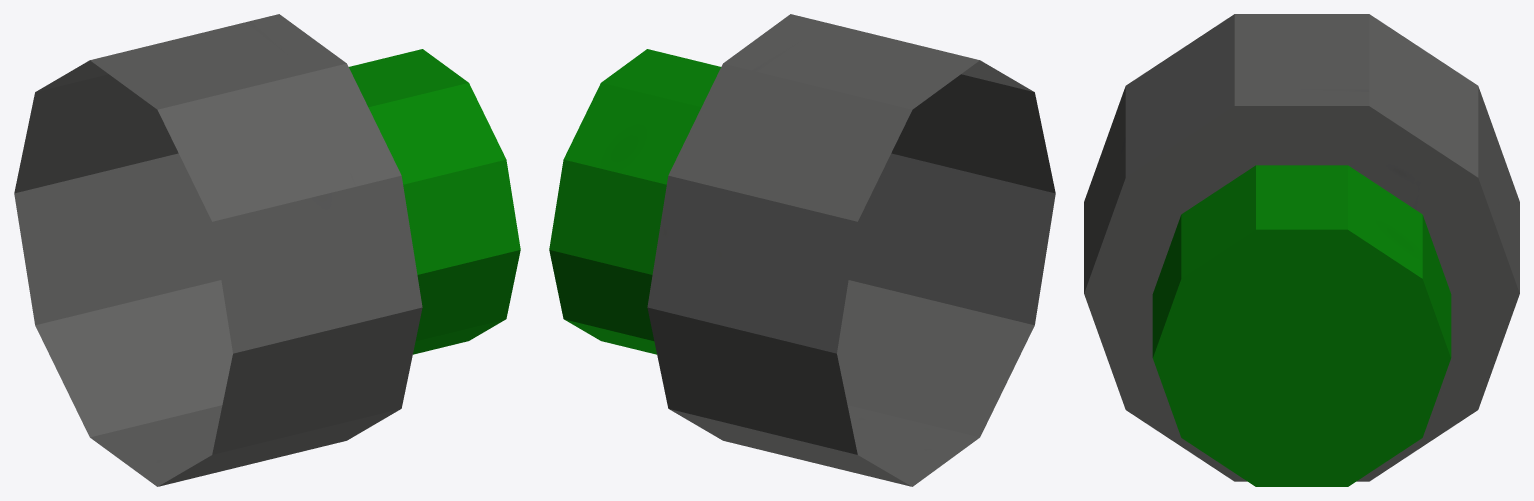
File: Button.fbx
3 views of the same model, side by side, from view 1: azimuth 30°, elevation 25°; view 2: azimuth 150°, elevation 25°; view 3: azimuth 270°, elevation 25° (orthographic).
Parts seen in each view (by area): view 1: Button; view 2: Button; view 3: Button.
Part boxes in pixels (x1=…): Button: x1=14, y1=14, x2=520, y2=486; Button: x1=549, y1=14, x2=1055, y2=486; Button: x1=1084, y1=14, x2=1519, y2=486.
Size of the model in its own units: 12.14 by 13.58 by 14.28.
